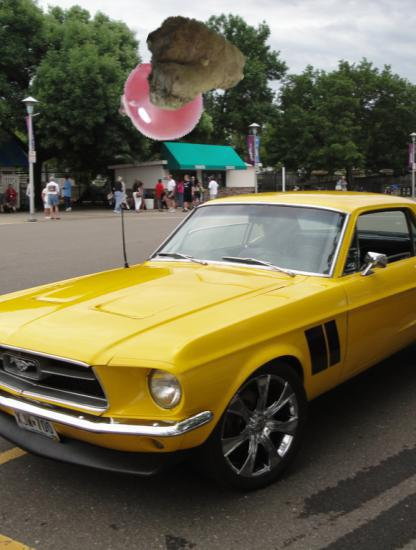Ginger: (140, 17, 244, 121)
Redcurrant: (117, 57, 206, 146)
